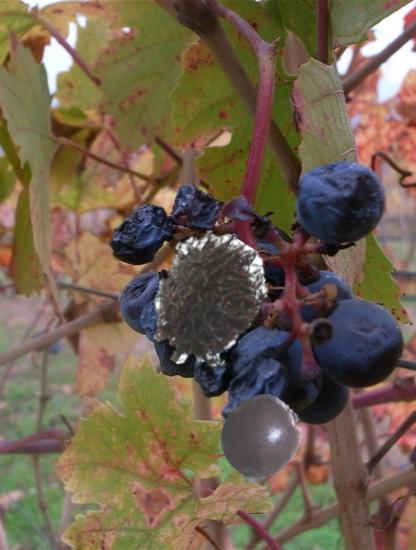Passion: (217, 392, 305, 480)
Rambutan: (136, 231, 275, 370)
